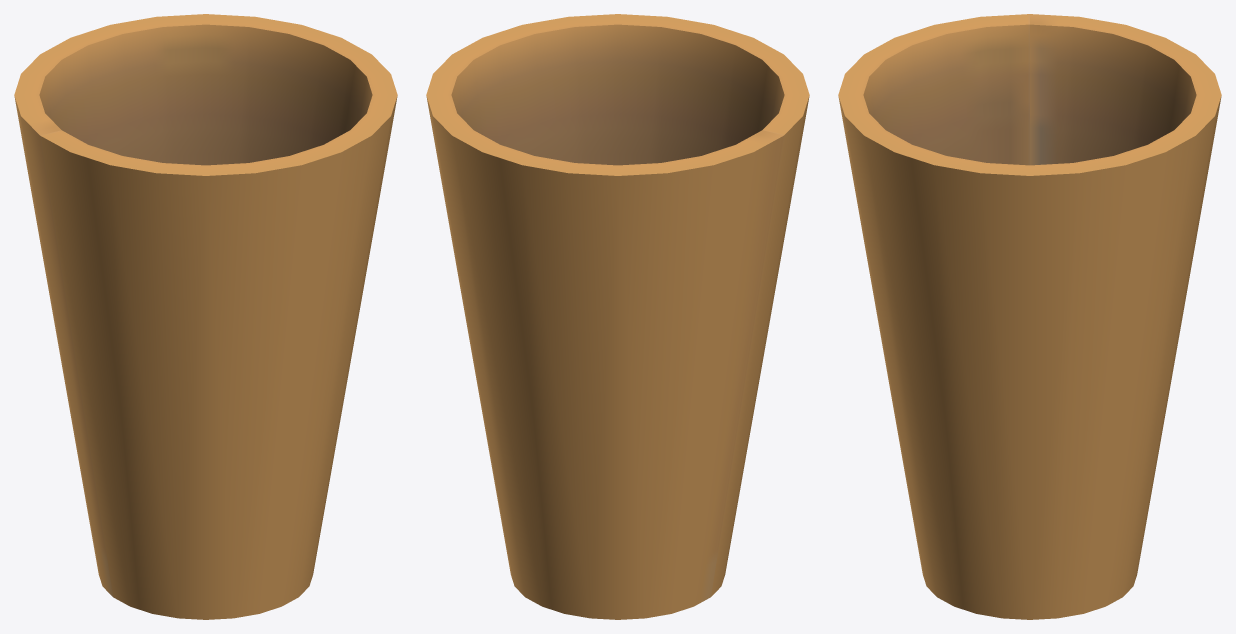
Rendered from propCup.fbx.
3 renders of one model, left to right at view 1: azimuth 30°, elevation 25°; view 2: azimuth 150°, elevation 25°; view 3: azimuth 270°, elevation 25°, orthographic.
Visible parts, largest first — view 1: propCup; view 2: propCup; view 3: propCup.
Boxes of the visible parts, x1,y1,x2,y2 form: propCup: (14, 14, 397, 619); propCup: (426, 14, 809, 619); propCup: (838, 14, 1221, 619).
Size of the model in its own units: 9.15 by 12.62 by 9.15.
Materials: 1 (1 with a texture image).
